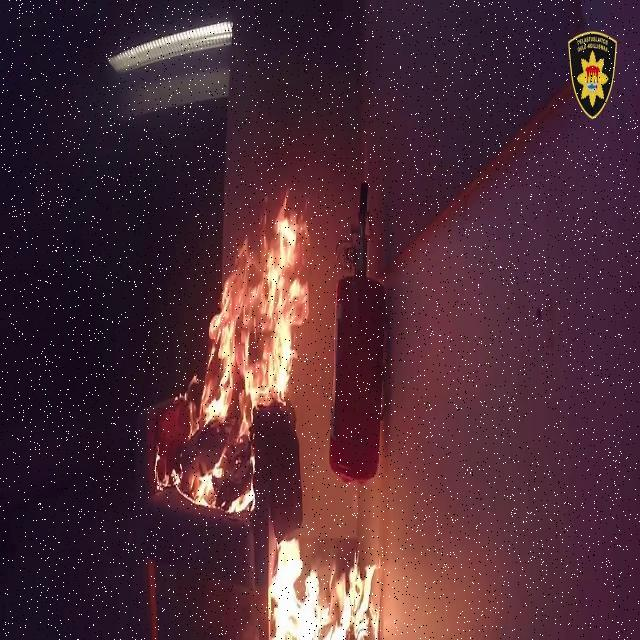fire: (130, 193, 306, 519), (273, 534, 382, 640)
